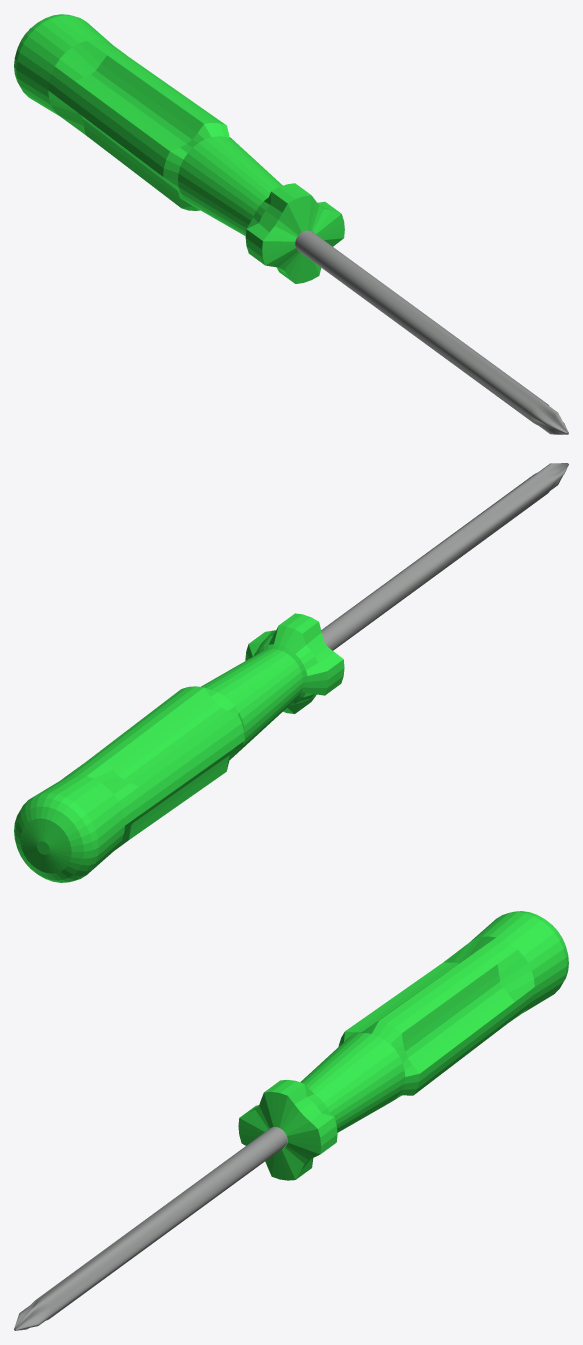
The model's file is Screw_driver111.fbx.
The picture shows the model from 3 angles, top to bottom: view 1: azimuth 30°, elevation 25°; view 2: azimuth 150°, elevation 25°; view 3: azimuth 330°, elevation 25°; orthographic projection.
Visible parts, largest first — view 1: Cylinder, Cylinder.001; view 2: Cylinder, Cylinder.001; view 3: Cylinder, Cylinder.001.
Boxes of the visible parts, bbox=[...] form: Cylinder: bbox=[14, 14, 344, 283]; Cylinder.001: bbox=[295, 230, 568, 434]; Cylinder: bbox=[14, 613, 344, 882]; Cylinder.001: bbox=[321, 463, 568, 650]; Cylinder: bbox=[238, 911, 568, 1180]; Cylinder.001: bbox=[14, 1127, 287, 1330].
Bounding box in the file's own units: 131 × 131 × 1435.
